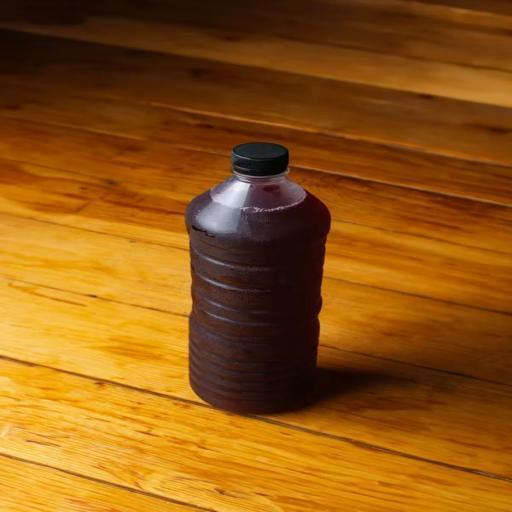bottle: (172, 131, 336, 424)
